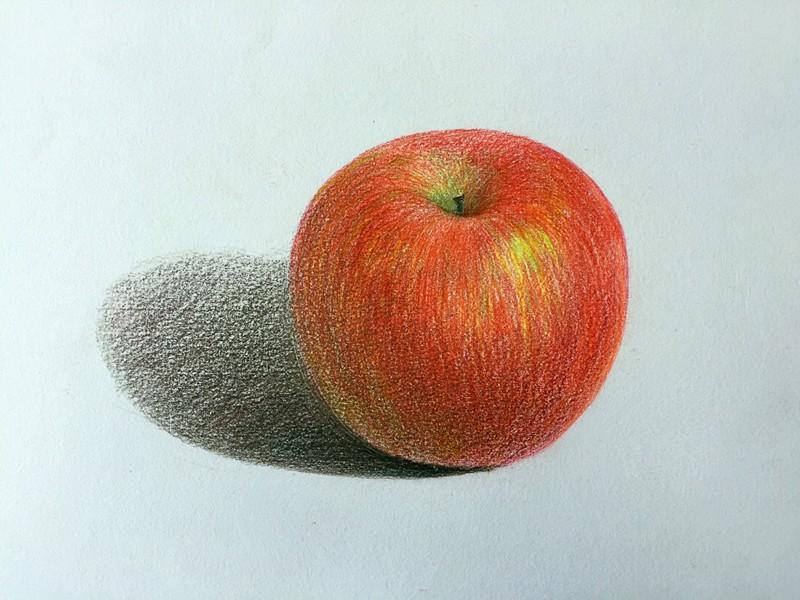apple: (281, 126, 629, 467)
